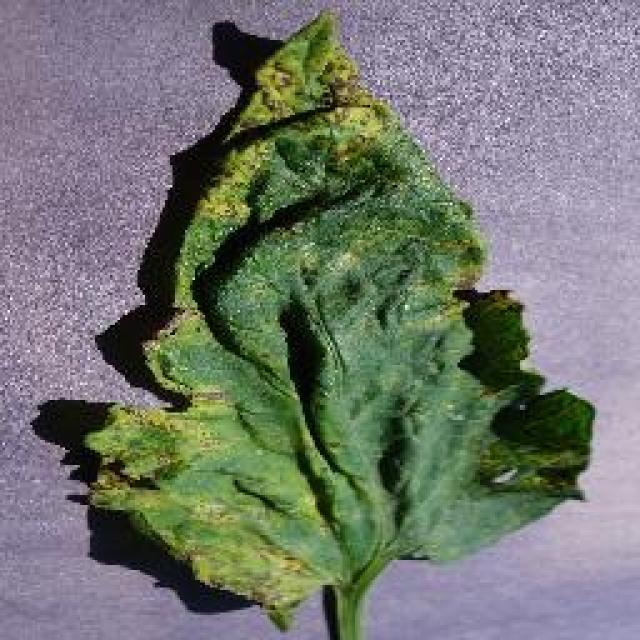Tomato Septoria spot leaf: (84, 10, 598, 607)
